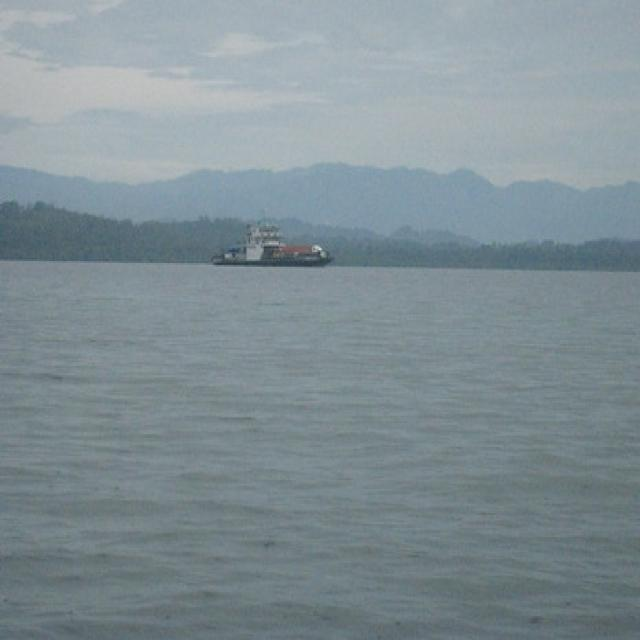fishing boat: (219, 217, 329, 270)
